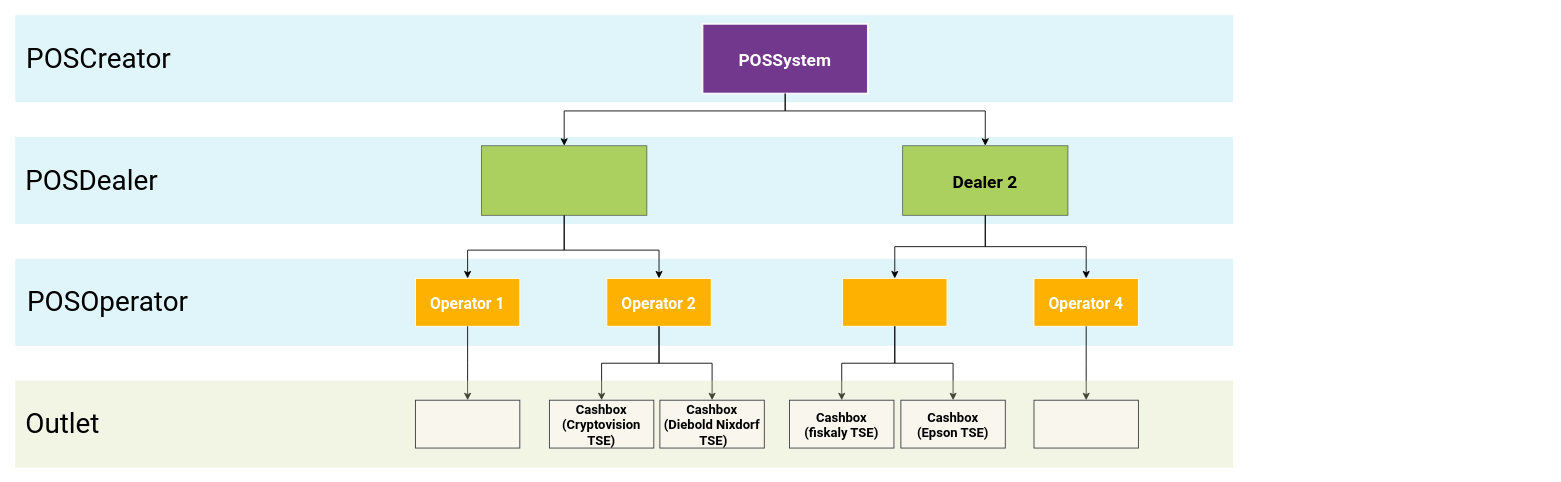
Image size: 1561x482. Some labels were removed from this diagram. The shapes that lost their labels are listed below. From the top down, each one's centre as x and y in pixels, then its label:
At pixel 564 180: "Dealer 1".
At pixel 894 302: "Operator 3".
At pixel 467 423: "Cashbox (Swissbit TSE)".
At pixel 1085 423: "Cashbox (a-trust TSE)".
